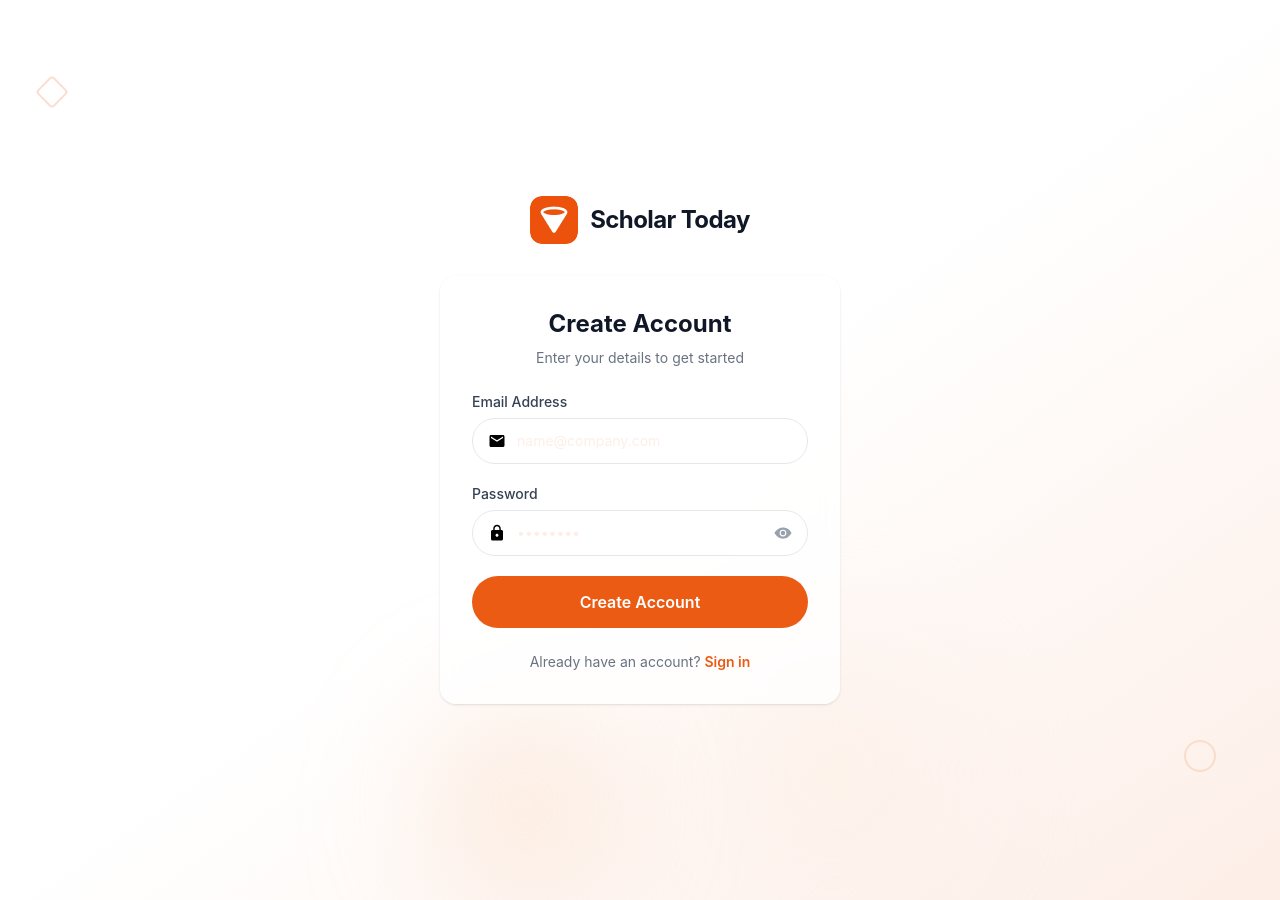
RegisterPage › Validation › should show error messages when submitting empty form
Click the button "Create Account": coordinates (640, 602) [472,576,808,628]
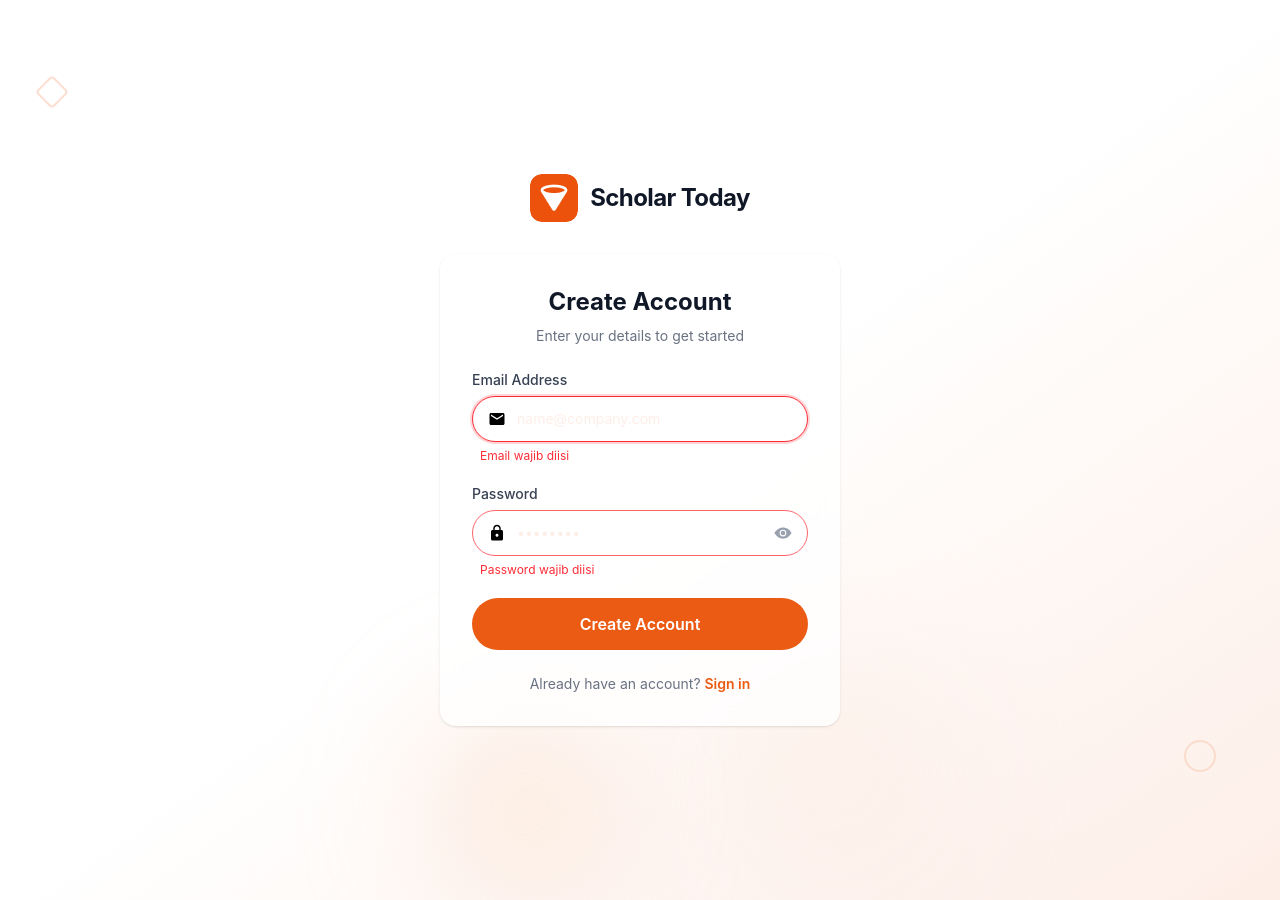
Expected: the text "Email wajib diisi" is shown, [480,448,569,463]
Expected: the text "Password wajib diisi" is shown, [480,562,594,577]
